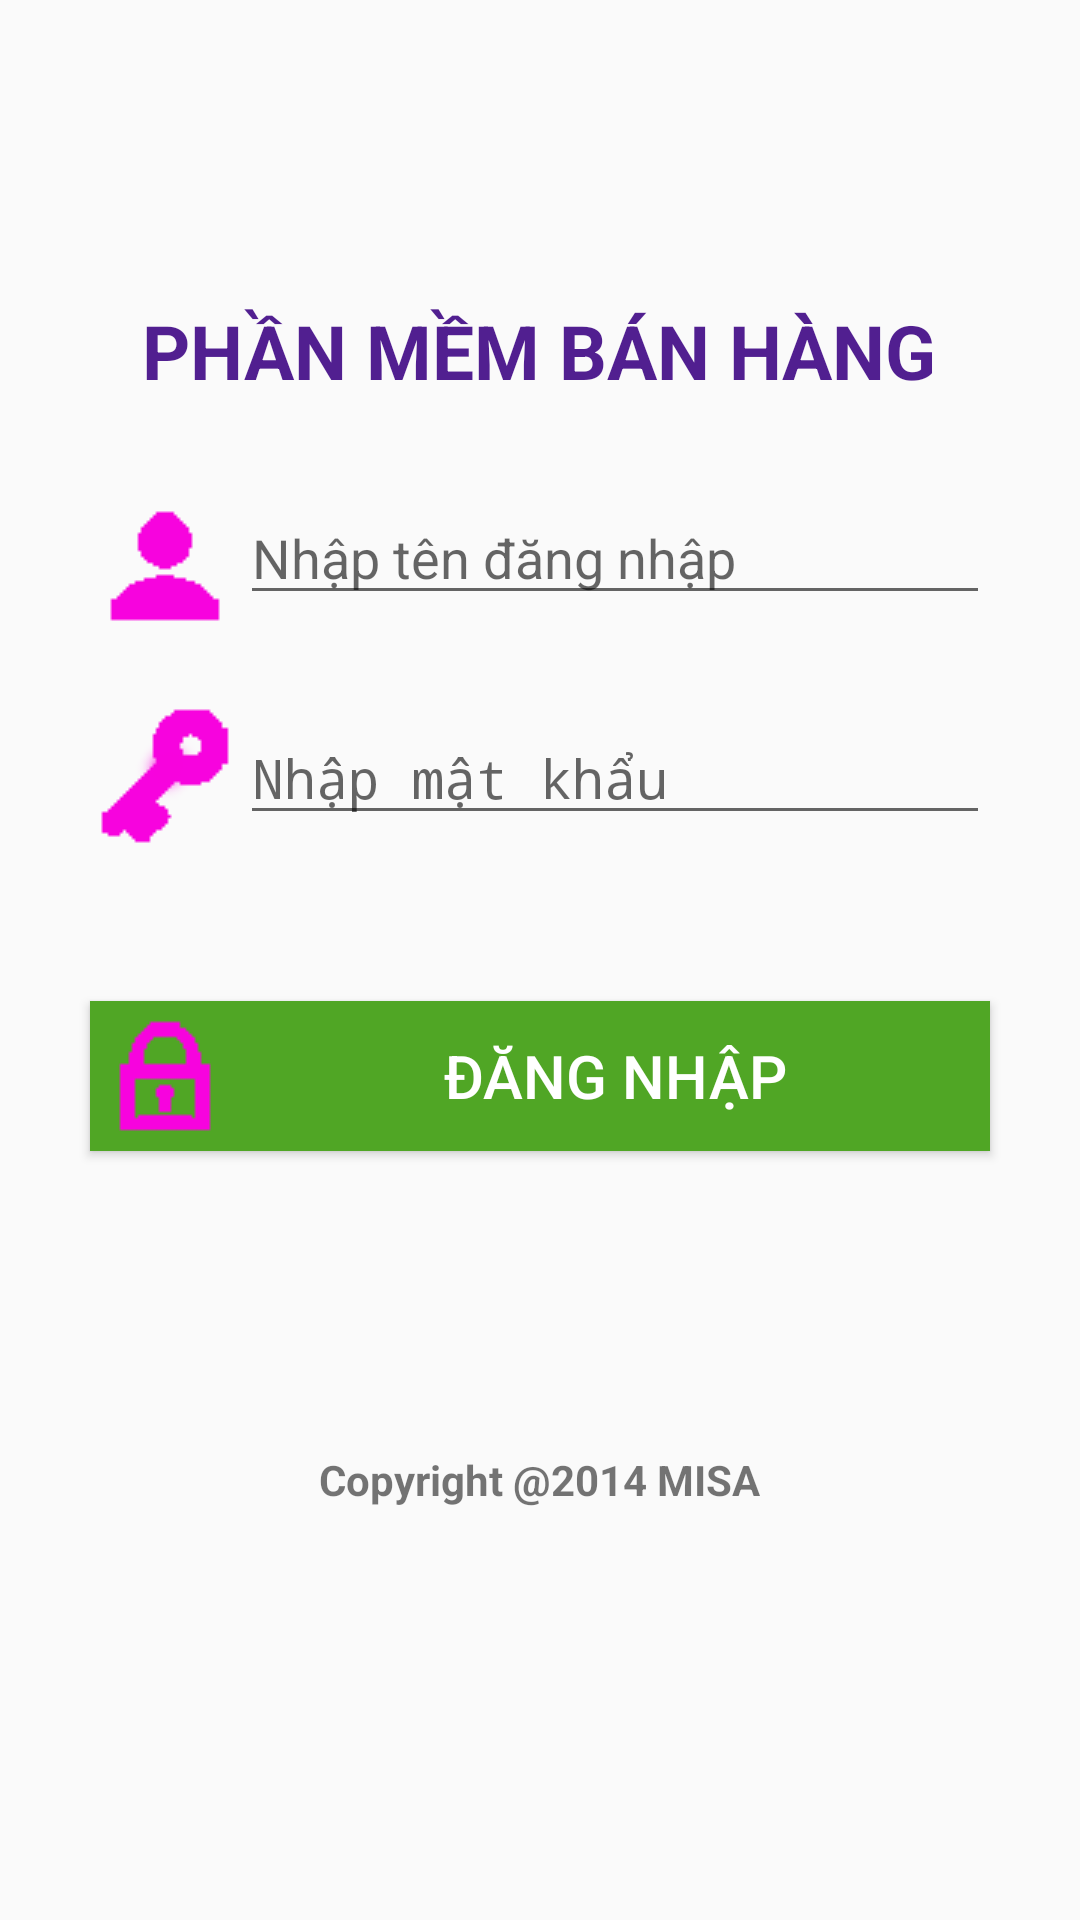

Named icons in this screenshot (1080*1920) and their bounding boxes, (x1, y1, x2, y2):
password: (101, 709, 229, 843)
user: (110, 511, 220, 621)
